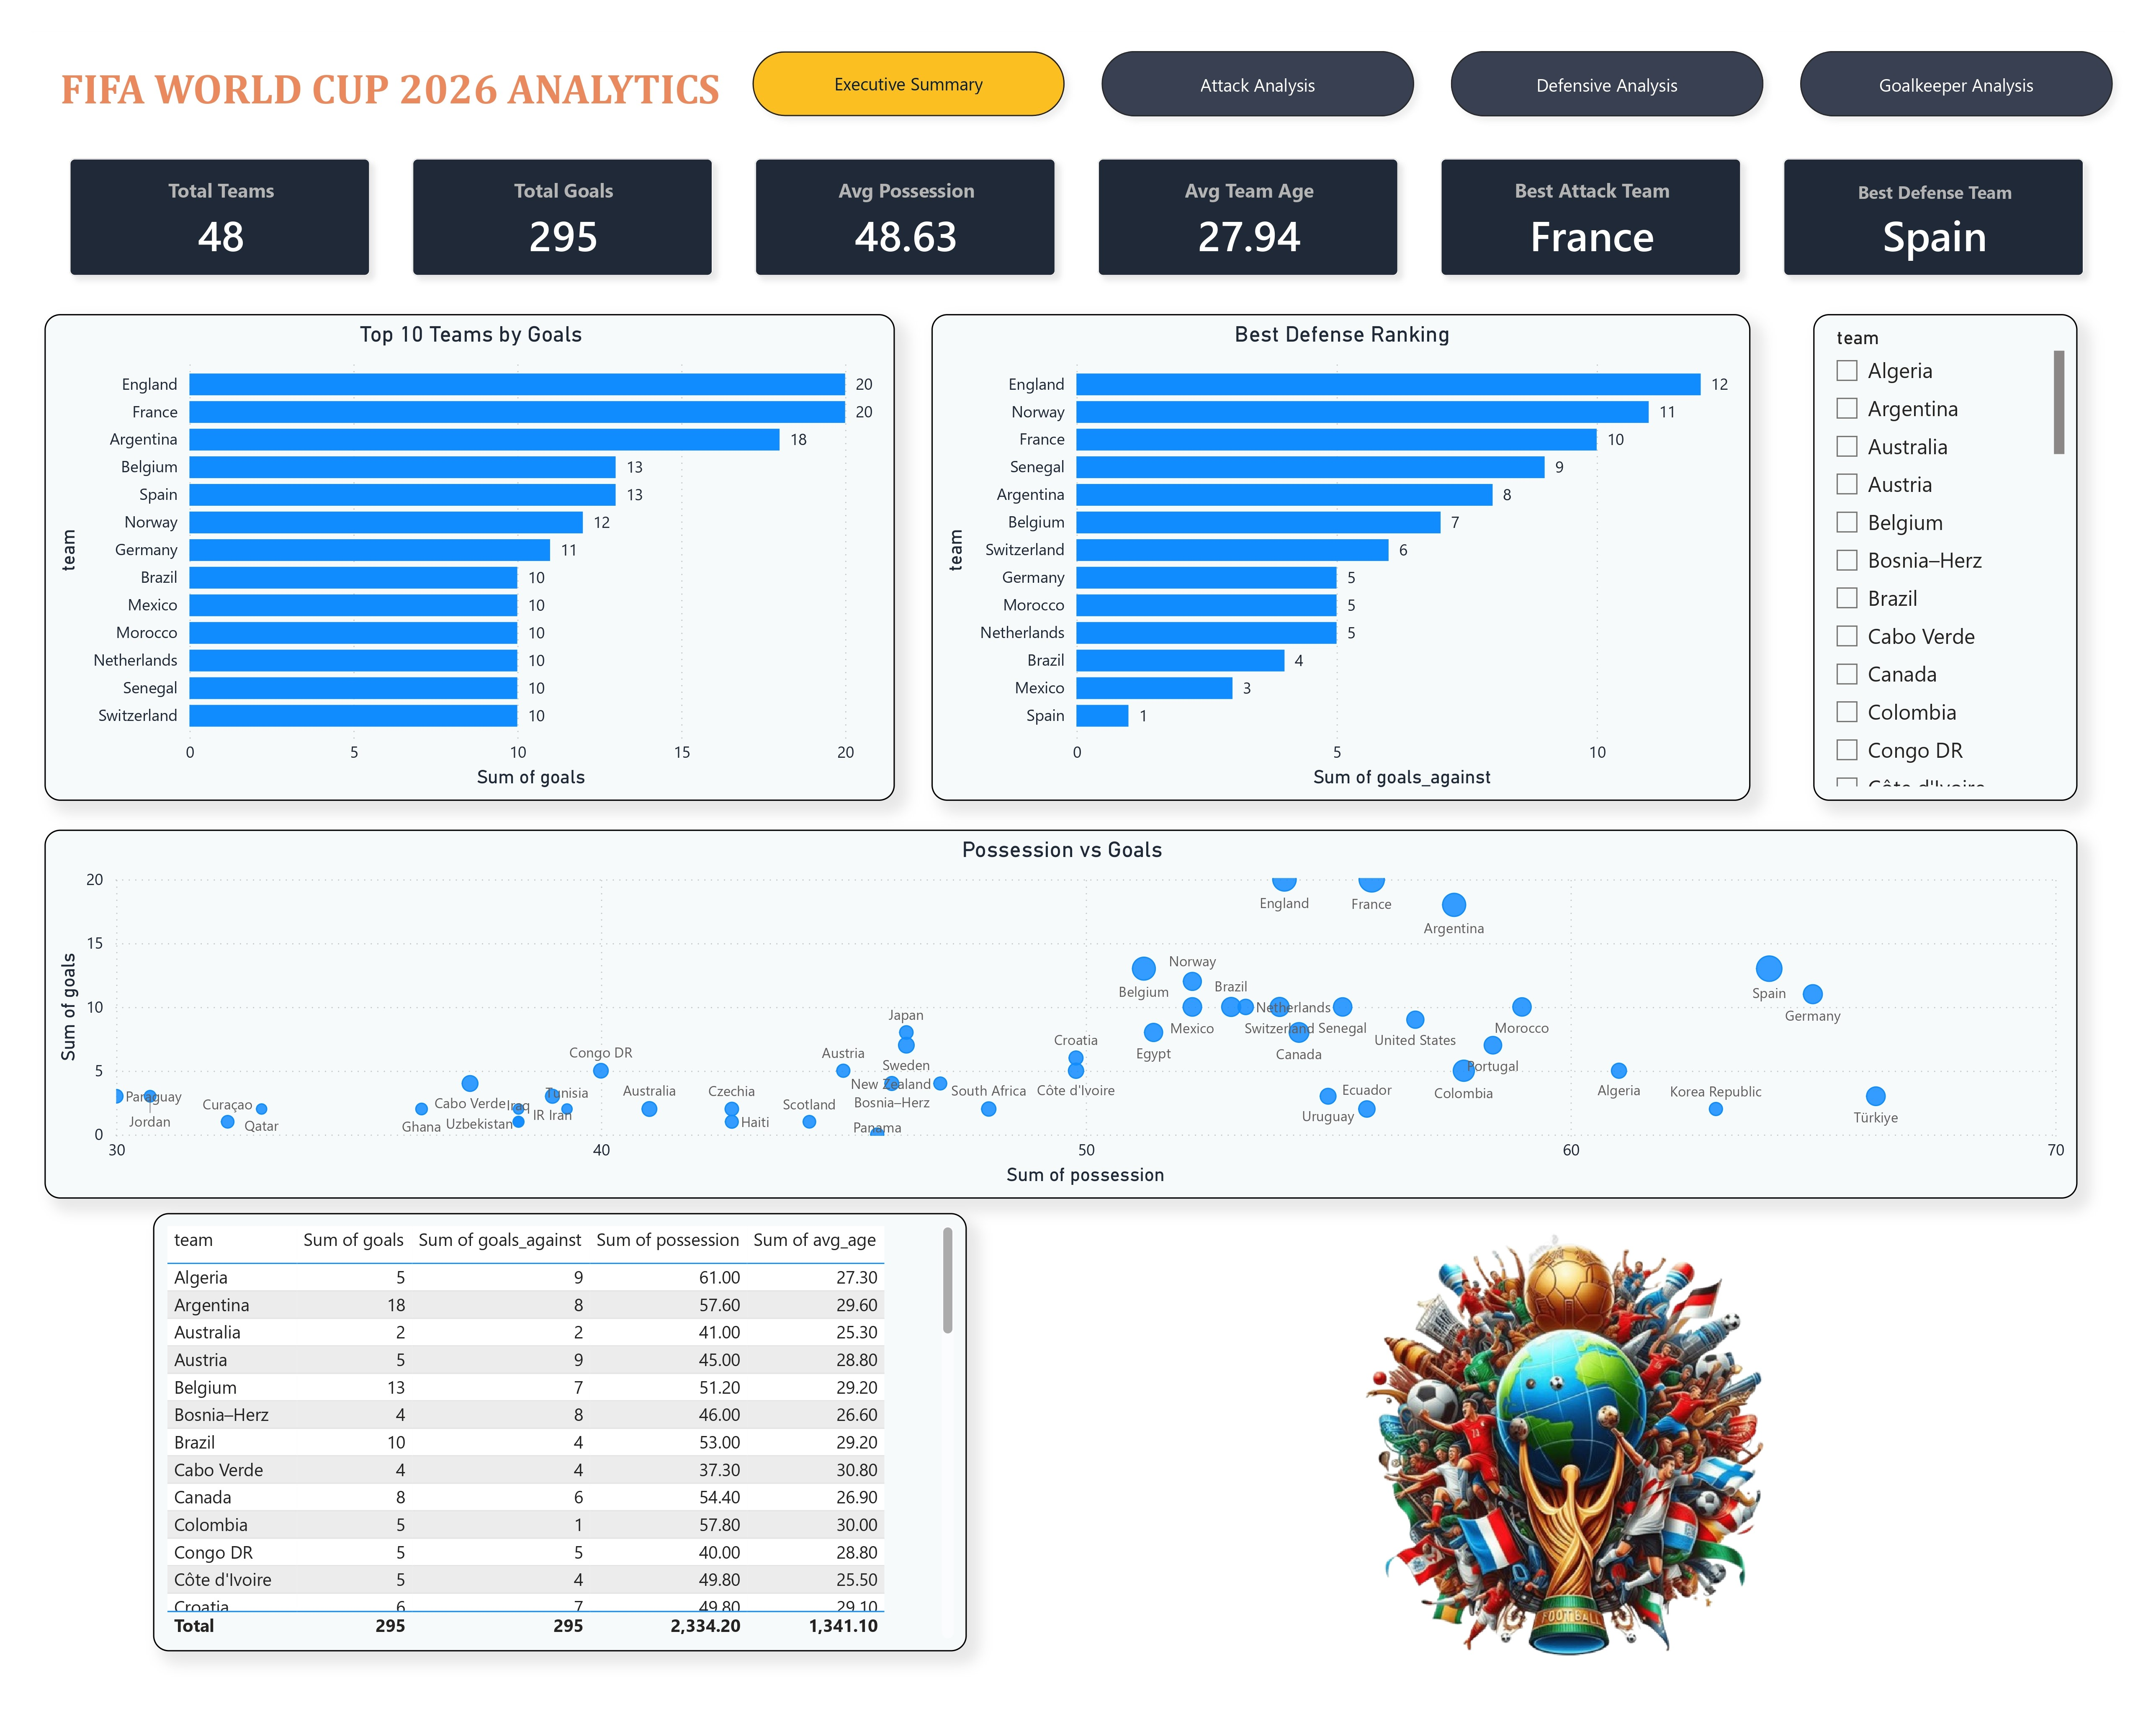

The dashboard page shown, as its layout file describes it:
{"tool":"powerbi","page":{"name":"Executive Summary","canvas":[1600,1700],"ordinal":0},"visuals":[{"type":"cardVisual","fields":{"Data":["teams csv.Total Teams","teams csv.Total Goals","teams csv.Avg Possession","teams csv.Avg Team Age","teams csv.Best Attack Team","teams csv.Best Defense Team"]},"box":[0,68,1600,148],"z":0},{"type":"clusteredBarChart","title":"Top 10 Teams by Goals","fields":{"Category":["teams csv.team"],"Y":["Sum(teams csv.goals)"]},"box":[10,216,650,372],"z":1000},{"type":"clusteredBarChart","title":"Best Defense Ranking","fields":{"Category":["teams csv.team"],"Y":["Sum(teams csv.goals_against)"]},"box":[688,216,626,372],"z":2000},{"type":"scatterChart","title":"Possession vs Goals","fields":{"X":["Sum(teams csv.possession)"],"Y":["Sum(teams csv.goals)"],"Size":["Sum(teams csv.shots)"],"Category":["teams csv.team"]},"box":[10,610,1554,282],"z":3000},{"type":"image","box":[821.7,891.7,705,381.7],"z":4000},{"type":"tableEx","title":"Possession vs Goals","fields":{"Values":["teams csv.team","Sum(teams csv.goals)","Sum(teams csv.goals_against)","Sum(teams csv.possession)","Sum(teams csv.avg_age)"]},"box":[93.3,903.3,621.7,335],"z":5000},{"type":"slicer","title":"Possession vs Goals","fields":{"Values":["teams csv.team"]},"box":[1362,216,202,372],"z":6000},{"type":"textbox","box":[10,20,531.7,48.3],"z":7000},{"type":"pageNavigator","box":[541.7,5.8,1058.3,68.3],"z":8000}]}

Visuals, with their boxes on the page's 1600x1700 design canvas (x1, y1, x2, y2). These are canvas units, not pixel positions in the 2156x1732 screenshot, which may show the page scaled, cropped or inside an application window:
cardVisual - teams csv.Total Teams x teams csv.Total Goals: box(0, 68, 1600, 216)
"Top 10 Teams by Goals" clusteredBarChart: box(10, 216, 660, 588)
"Best Defense Ranking" clusteredBarChart: box(688, 216, 1314, 588)
"Possession vs Goals" scatterChart: box(10, 610, 1564, 892)
image: box(822, 892, 1527, 1273)
"Possession vs Goals" tableEx: box(93, 903, 715, 1238)
"Possession vs Goals" slicer: box(1362, 216, 1564, 588)
textbox: box(10, 20, 542, 68)
pageNavigator: box(542, 6, 1600, 74)
